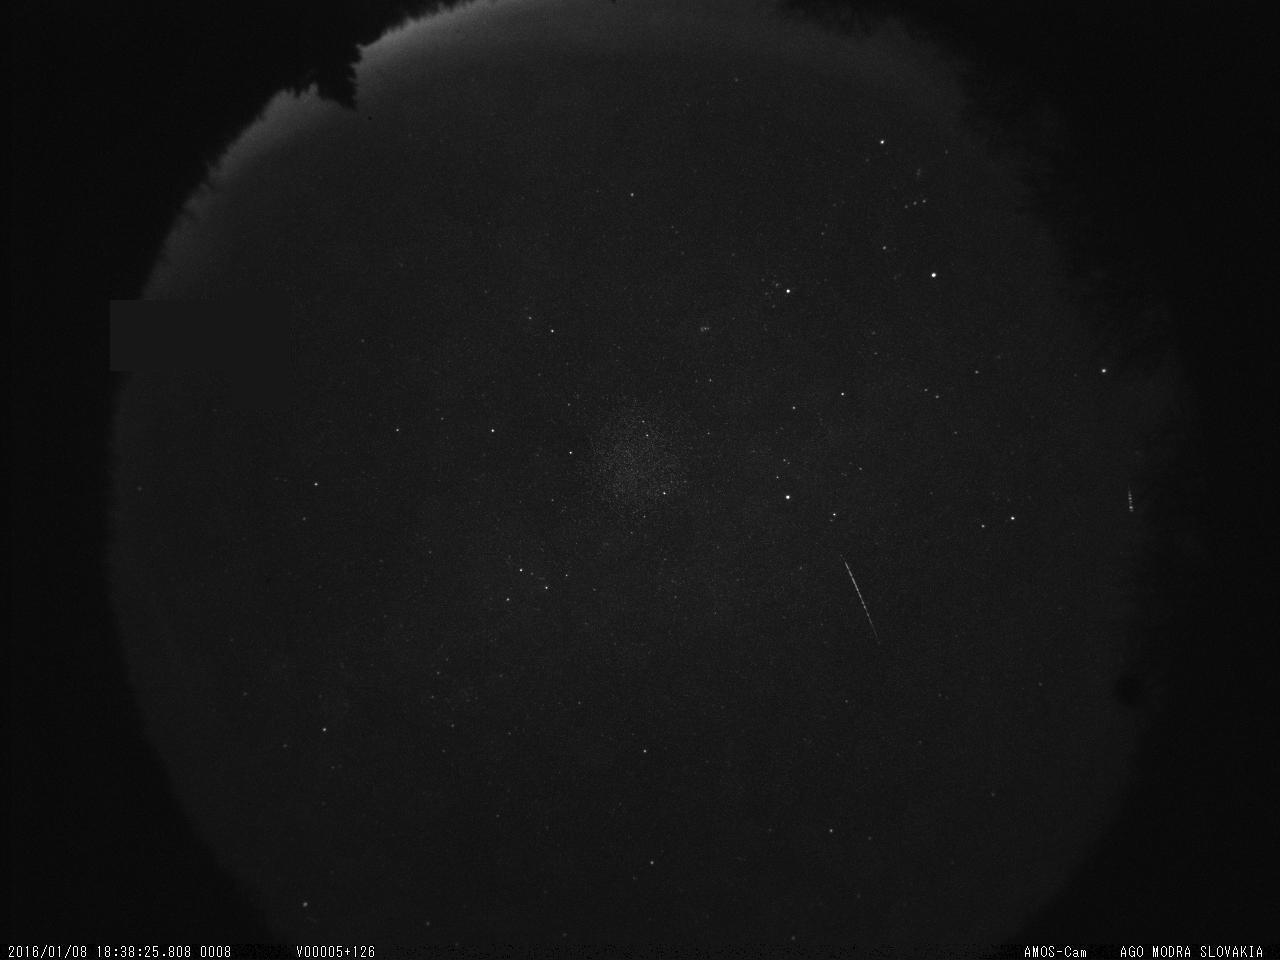meteor: (837, 557, 887, 654)
